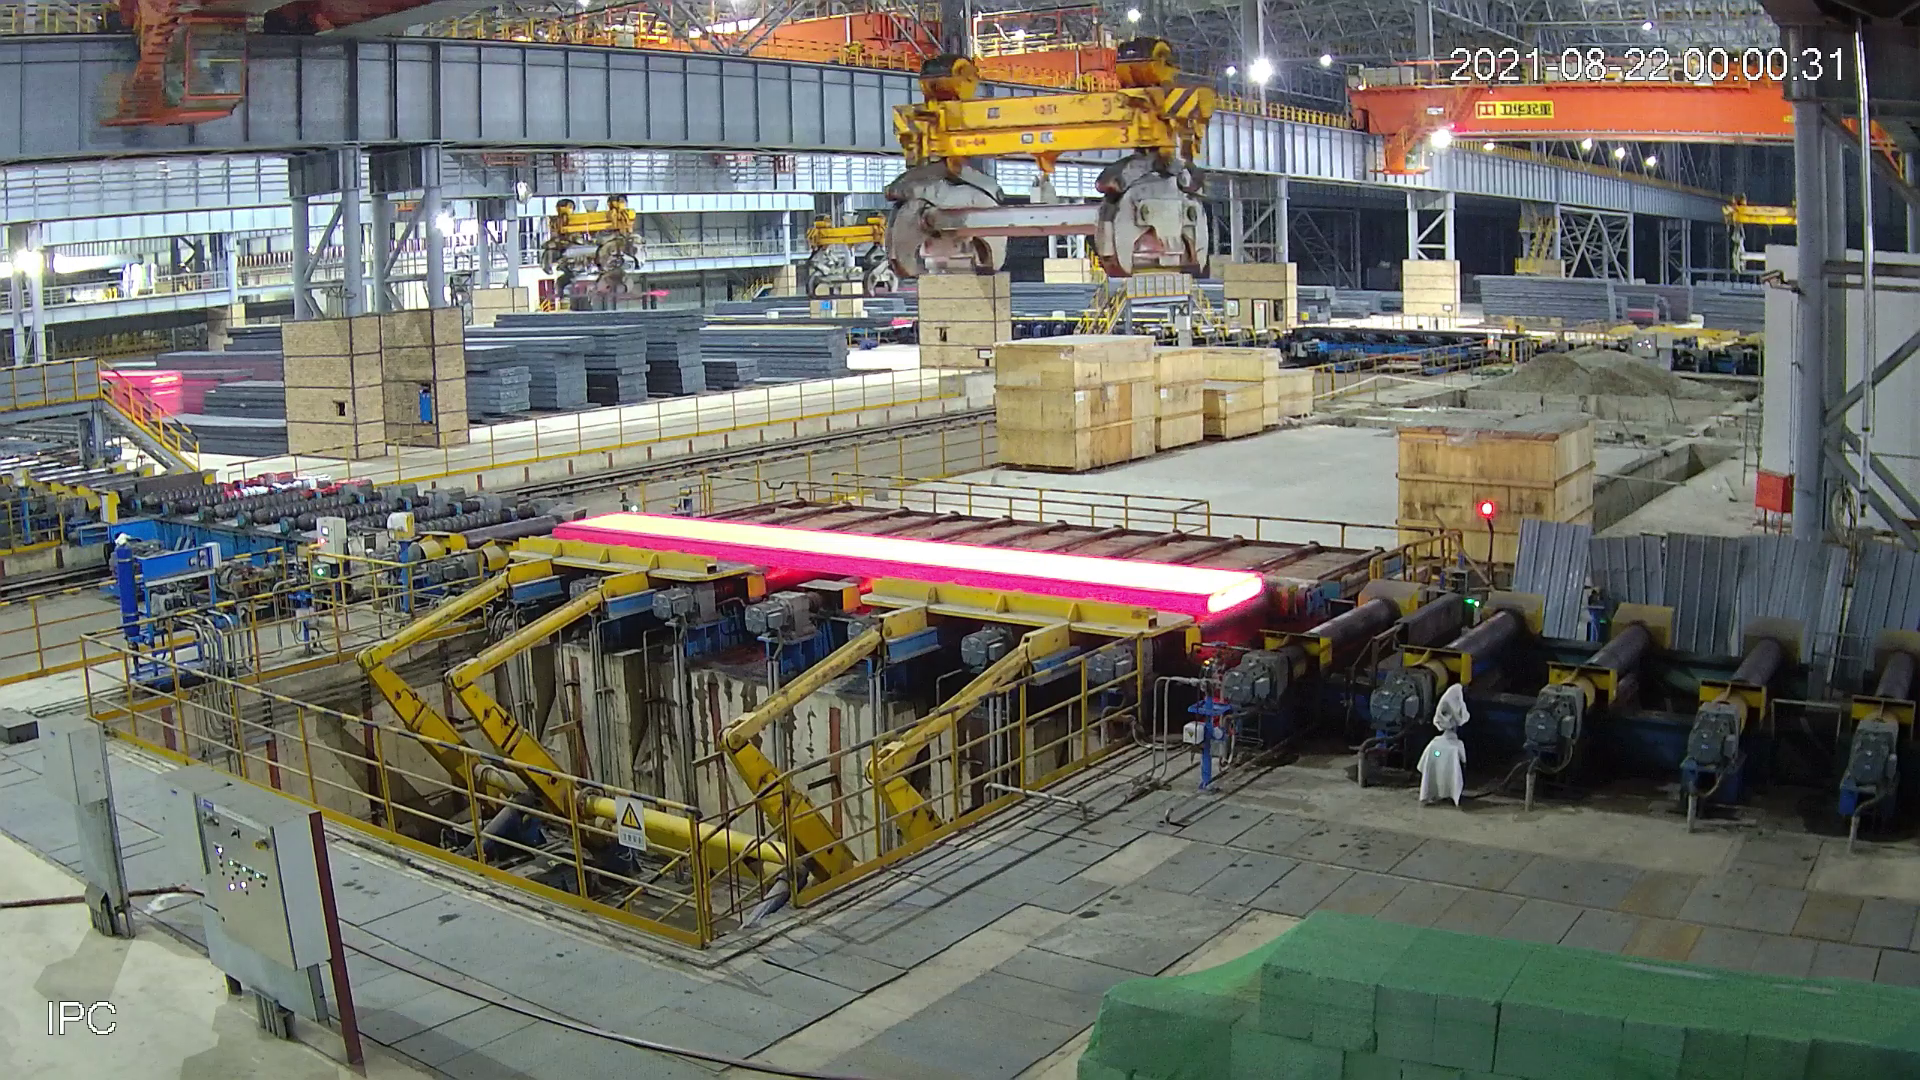crane: (874, 36, 1216, 287)
slab: (553, 508, 1267, 625)
